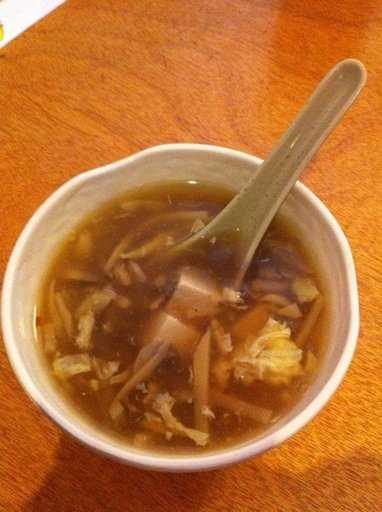soup: (43, 175, 346, 454)
